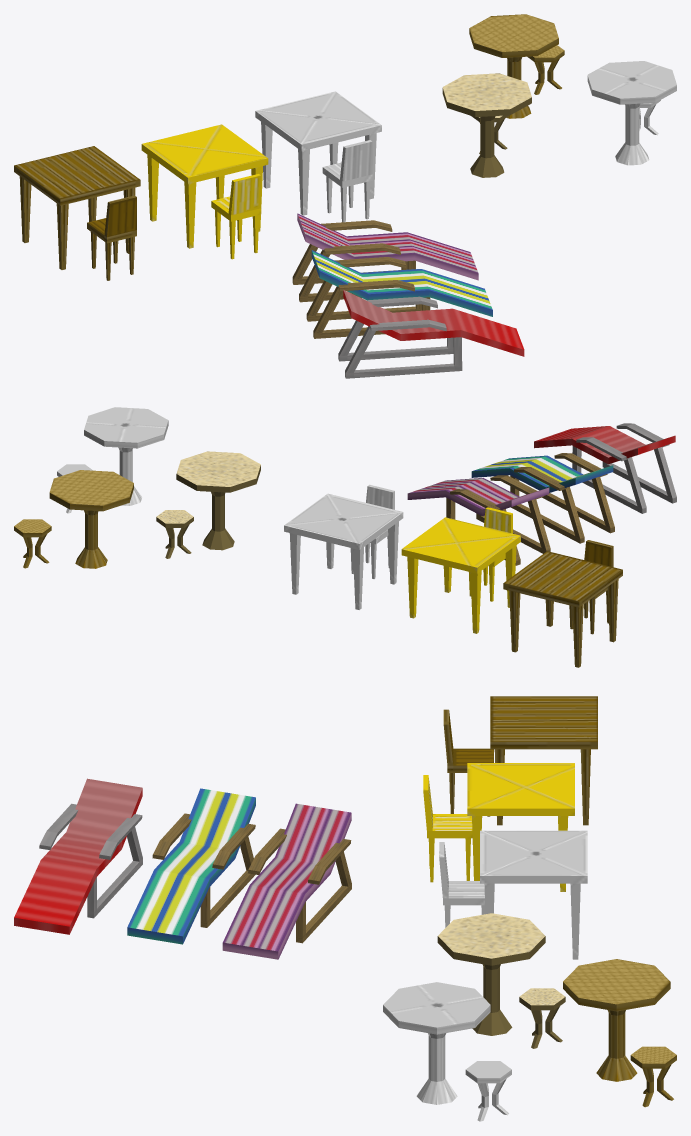
Rendered from mesaecadeiras_mod.fbx.
The picture shows the model from 3 angles, top to bottom: view 1: azimuth 30°, elevation 25°; view 2: azimuth 150°, elevation 25°; view 3: azimuth 270°, elevation 25°; orthographic projection. The views are drawn at different scales.
Visible parts, largest first — view 1: caderia_sol_3, cadeira_sol_1, mesa-plastico-2, cadeira-sol-2, mesa-plastico_3, mesa-madeira-3, mesa-madeira_2, mesa_plastico_1, mesa-madeira_1, cadeira_plastico_3, cadeira-plastico-2, cadeira_madeira_3 (+1 smaller); view 2: mesa-madeira-3, mesa-plastico-2, mesa-plastico_3, cadeira_sol_1, caderia_sol_3, cadeira-sol-2, mesa-madeira_1, mesa-madeira_2, mesa_plastico_1, cadeira_madeira_3, cadeira-plastico-2, cadeira_plastico_3 (+2 smaller); view 3: cadeira-sol-2, caderia_sol_3, cadeira_sol_1, mesa-plastico-2, mesa-madeira-3, mesa-plastico_3, mesa_plastico_1, mesa-madeira_1, mesa-madeira_2, cadeira_plastico_3, cadeira-plastico-2, banco_madeira_2 (+3 smaller).
Part boxes in pixels (x1,y1,x2,y2): caderia_sol_3: (338,290,524,378); cadeira_sol_1: (306,250,492,338); mesa-plastico-2: (255,91,381,215); cadeira-sol-2: (292,213,478,302); mesa-plastico_3: (141,124,268,248); mesa-madeira-3: (14,146,140,269); mesa-madeira_2: (442,73,531,177); mesa_plastico_1: (587,61,676,165); mesa-madeira_1: (469,14,558,118); cadeira_plastico_3: (211,174,261,259); cadeira-plastico-2: (322,140,372,222); cadeira_madeira_3: (87,195,136,280); mesa-madeira-3: (503,551,622,667); mesa-plastico-2: (284,493,403,609); mesa-plastico_3: (401,517,520,633); cadeira_sol_1: (471,453,614,543); caderia_sol_3: (534,423,676,513); cadeira-sol-2: (407,475,550,565); mesa-madeira_1: (49,470,133,568); mesa-madeira_2: (176,451,260,550); mesa_plastico_1: (84,407,168,505); cadeira_madeira_3: (569,540,613,634); cadeira-plastico-2: (350,484,394,578); cadeira_plastico_3: (469,507,512,601); cadeira-sol-2: (222,803,351,959); caderia_sol_3: (14,778,142,934); cadeira_sol_1: (127,788,255,944); mesa-plastico-2: (480,830,587,959); mesa-madeira-3: (490,696,597,825); mesa-plastico_3: (467,763,574,891); mesa_plastico_1: (383,982,490,1104); mesa-madeira_1: (563,959,670,1081); mesa-madeira_2: (437,913,545,1035); cadeira_plastico_3: (423,775,472,882); cadeira-plastico-2: (439,842,485,927); banco_madeira_2: (519,988,565,1048).
Size of the model in its own units: 593 by 80.86 by 492.
